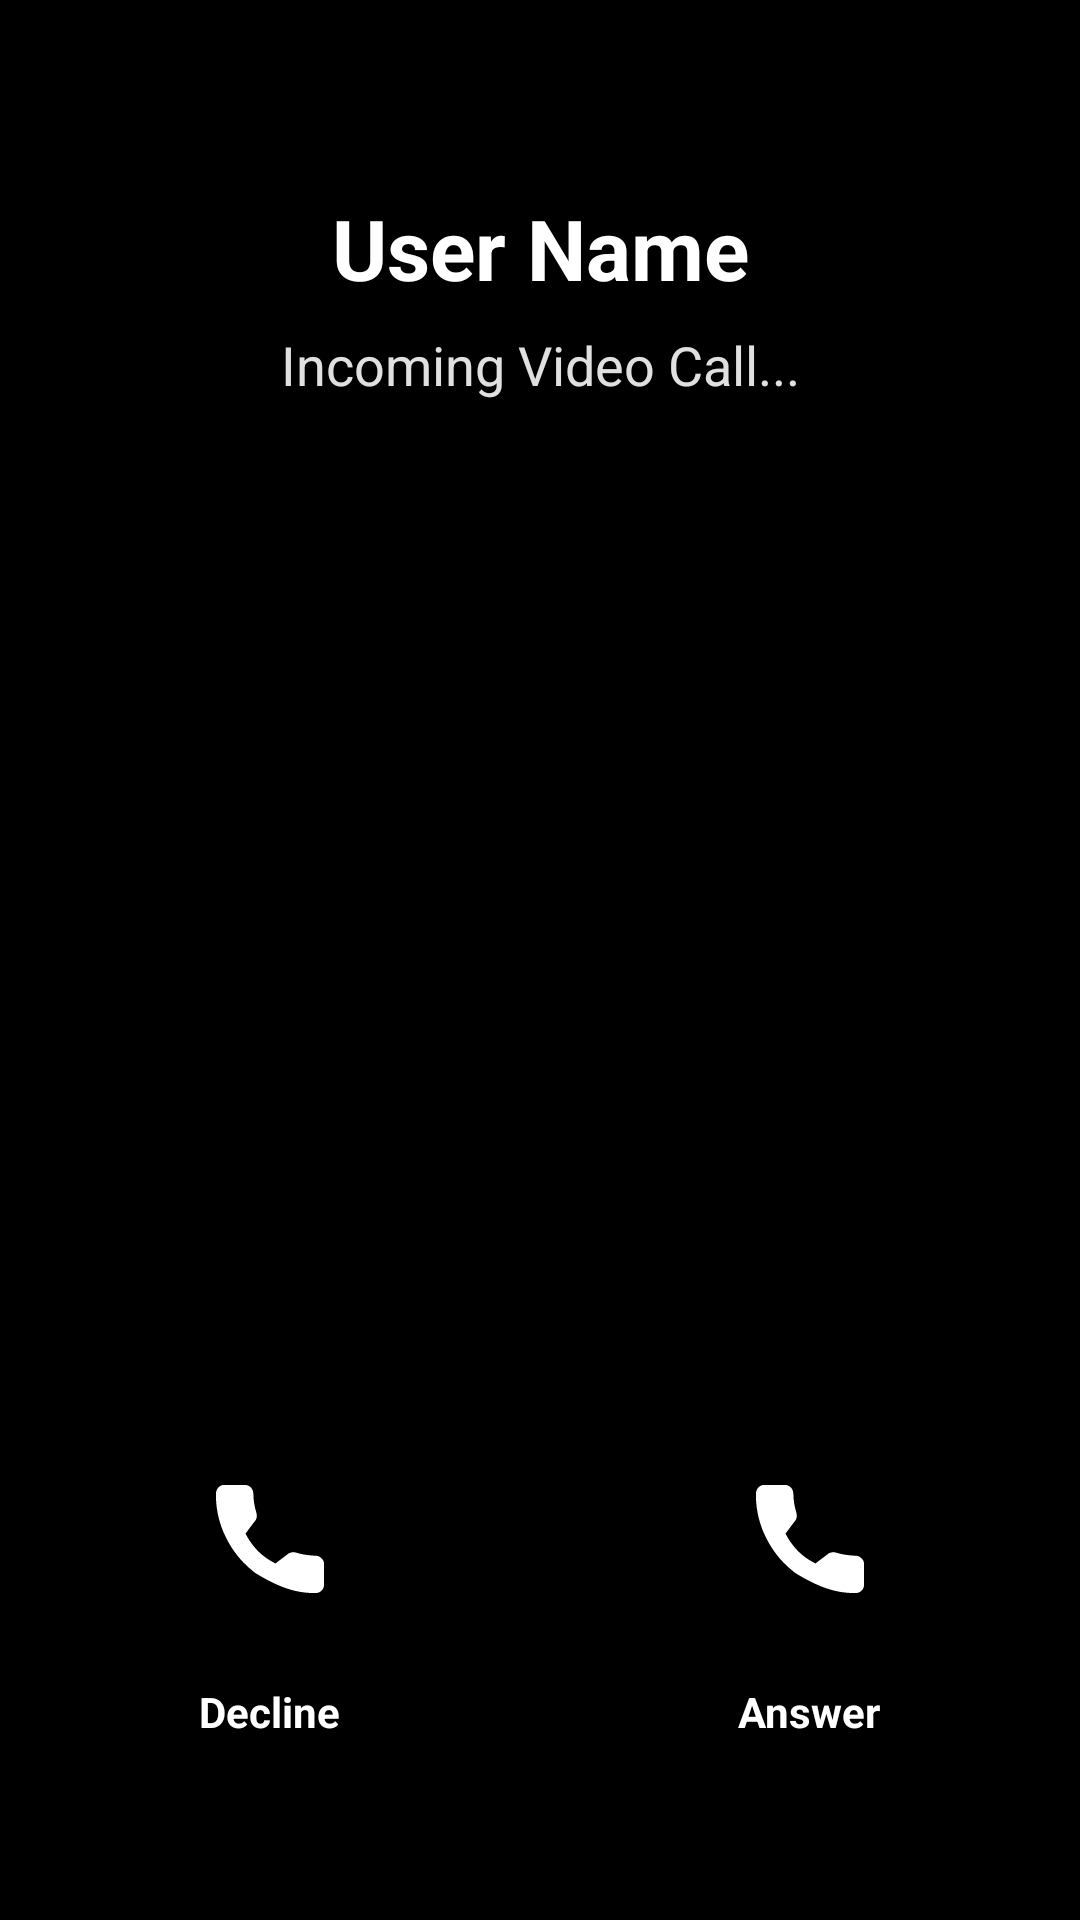

Icon click points for this 1080w x 1920h phone screenshot, format (x,y):
call: (270,1539), (810,1539)
